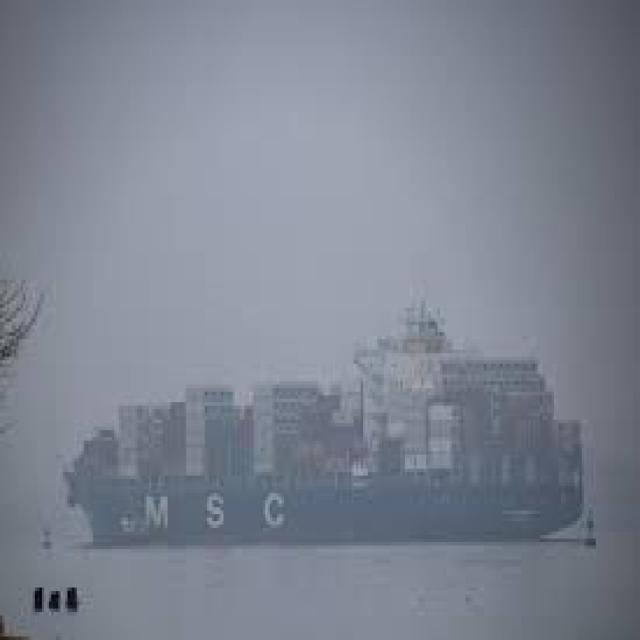cargoship: (63, 306, 588, 544)
